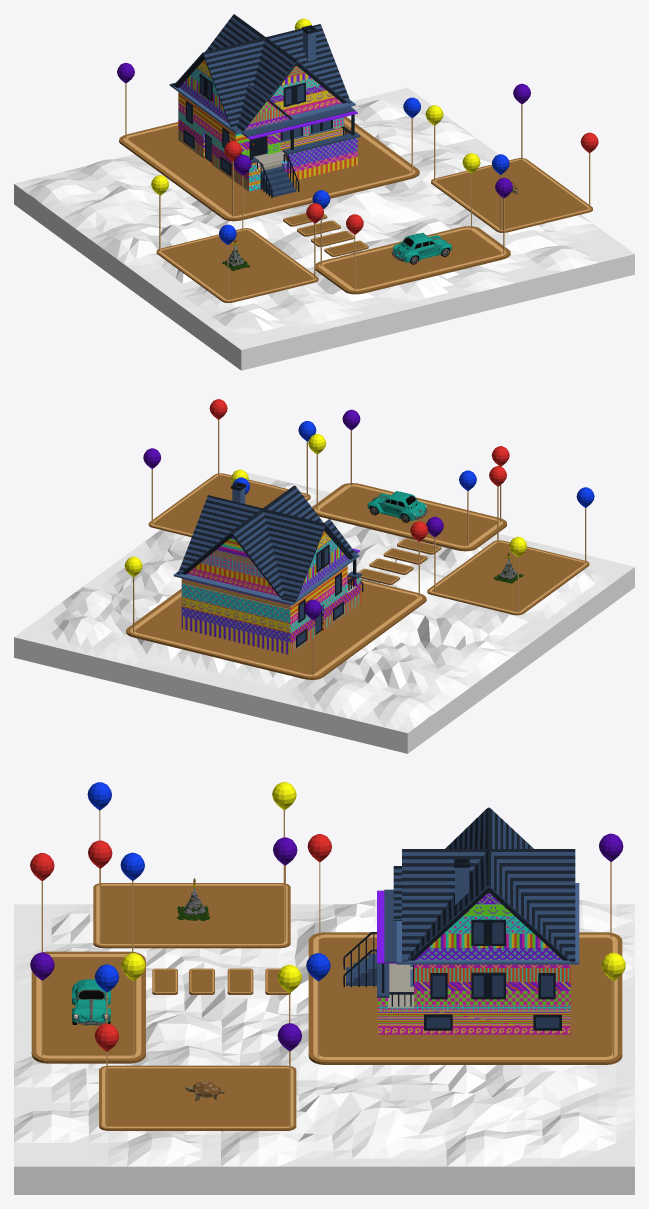
3 views of the same model, one above another, from view 1: azimuth 30°, elevation 25°; view 2: azimuth 150°, elevation 25°; view 3: azimuth 270°, elevation 25° (orthographic). The views are drawn at different scales.
Visible parts, largest first — view 1: Cube.013, Cube.676, VEHICLES_VOLKSWAGEN; view 2: Cube.013, Cube.676, VEHICLES_VOLKSWAGEN; view 3: Cube.013, Cube.676, VEHICLES_VOLKSWAGEN, OBJRANDOM_SWORD_IN_THE_STONE.
Part boxes in pixels (left/top/right/bottom): Cube.013: left=14, top=18, right=634, bottom=370; Cube.676: left=169, top=14, right=360, bottom=198; VEHICLES_VOLKSWAGEN: left=391, top=232, right=452, bottom=264; Cube.013: left=14, top=399, right=634, bottom=753; Cube.676: left=173, top=482, right=363, bottom=654; VEHICLES_VOLKSWAGEN: left=367, top=491, right=427, bottom=522; Cube.013: left=14, top=782, right=634, bottom=1194; Cube.676: left=343, top=807, right=579, bottom=1034; VEHICLES_VOLKSWAGEN: left=71, top=979, right=110, bottom=1025; OBJRANDOM_SWORD_IN_THE_STONE: left=175, top=878, right=209, bottom=920.
Bounding box in the file's own units: 4000 × 1691 × 4000.
41 materials, 5 textured.
